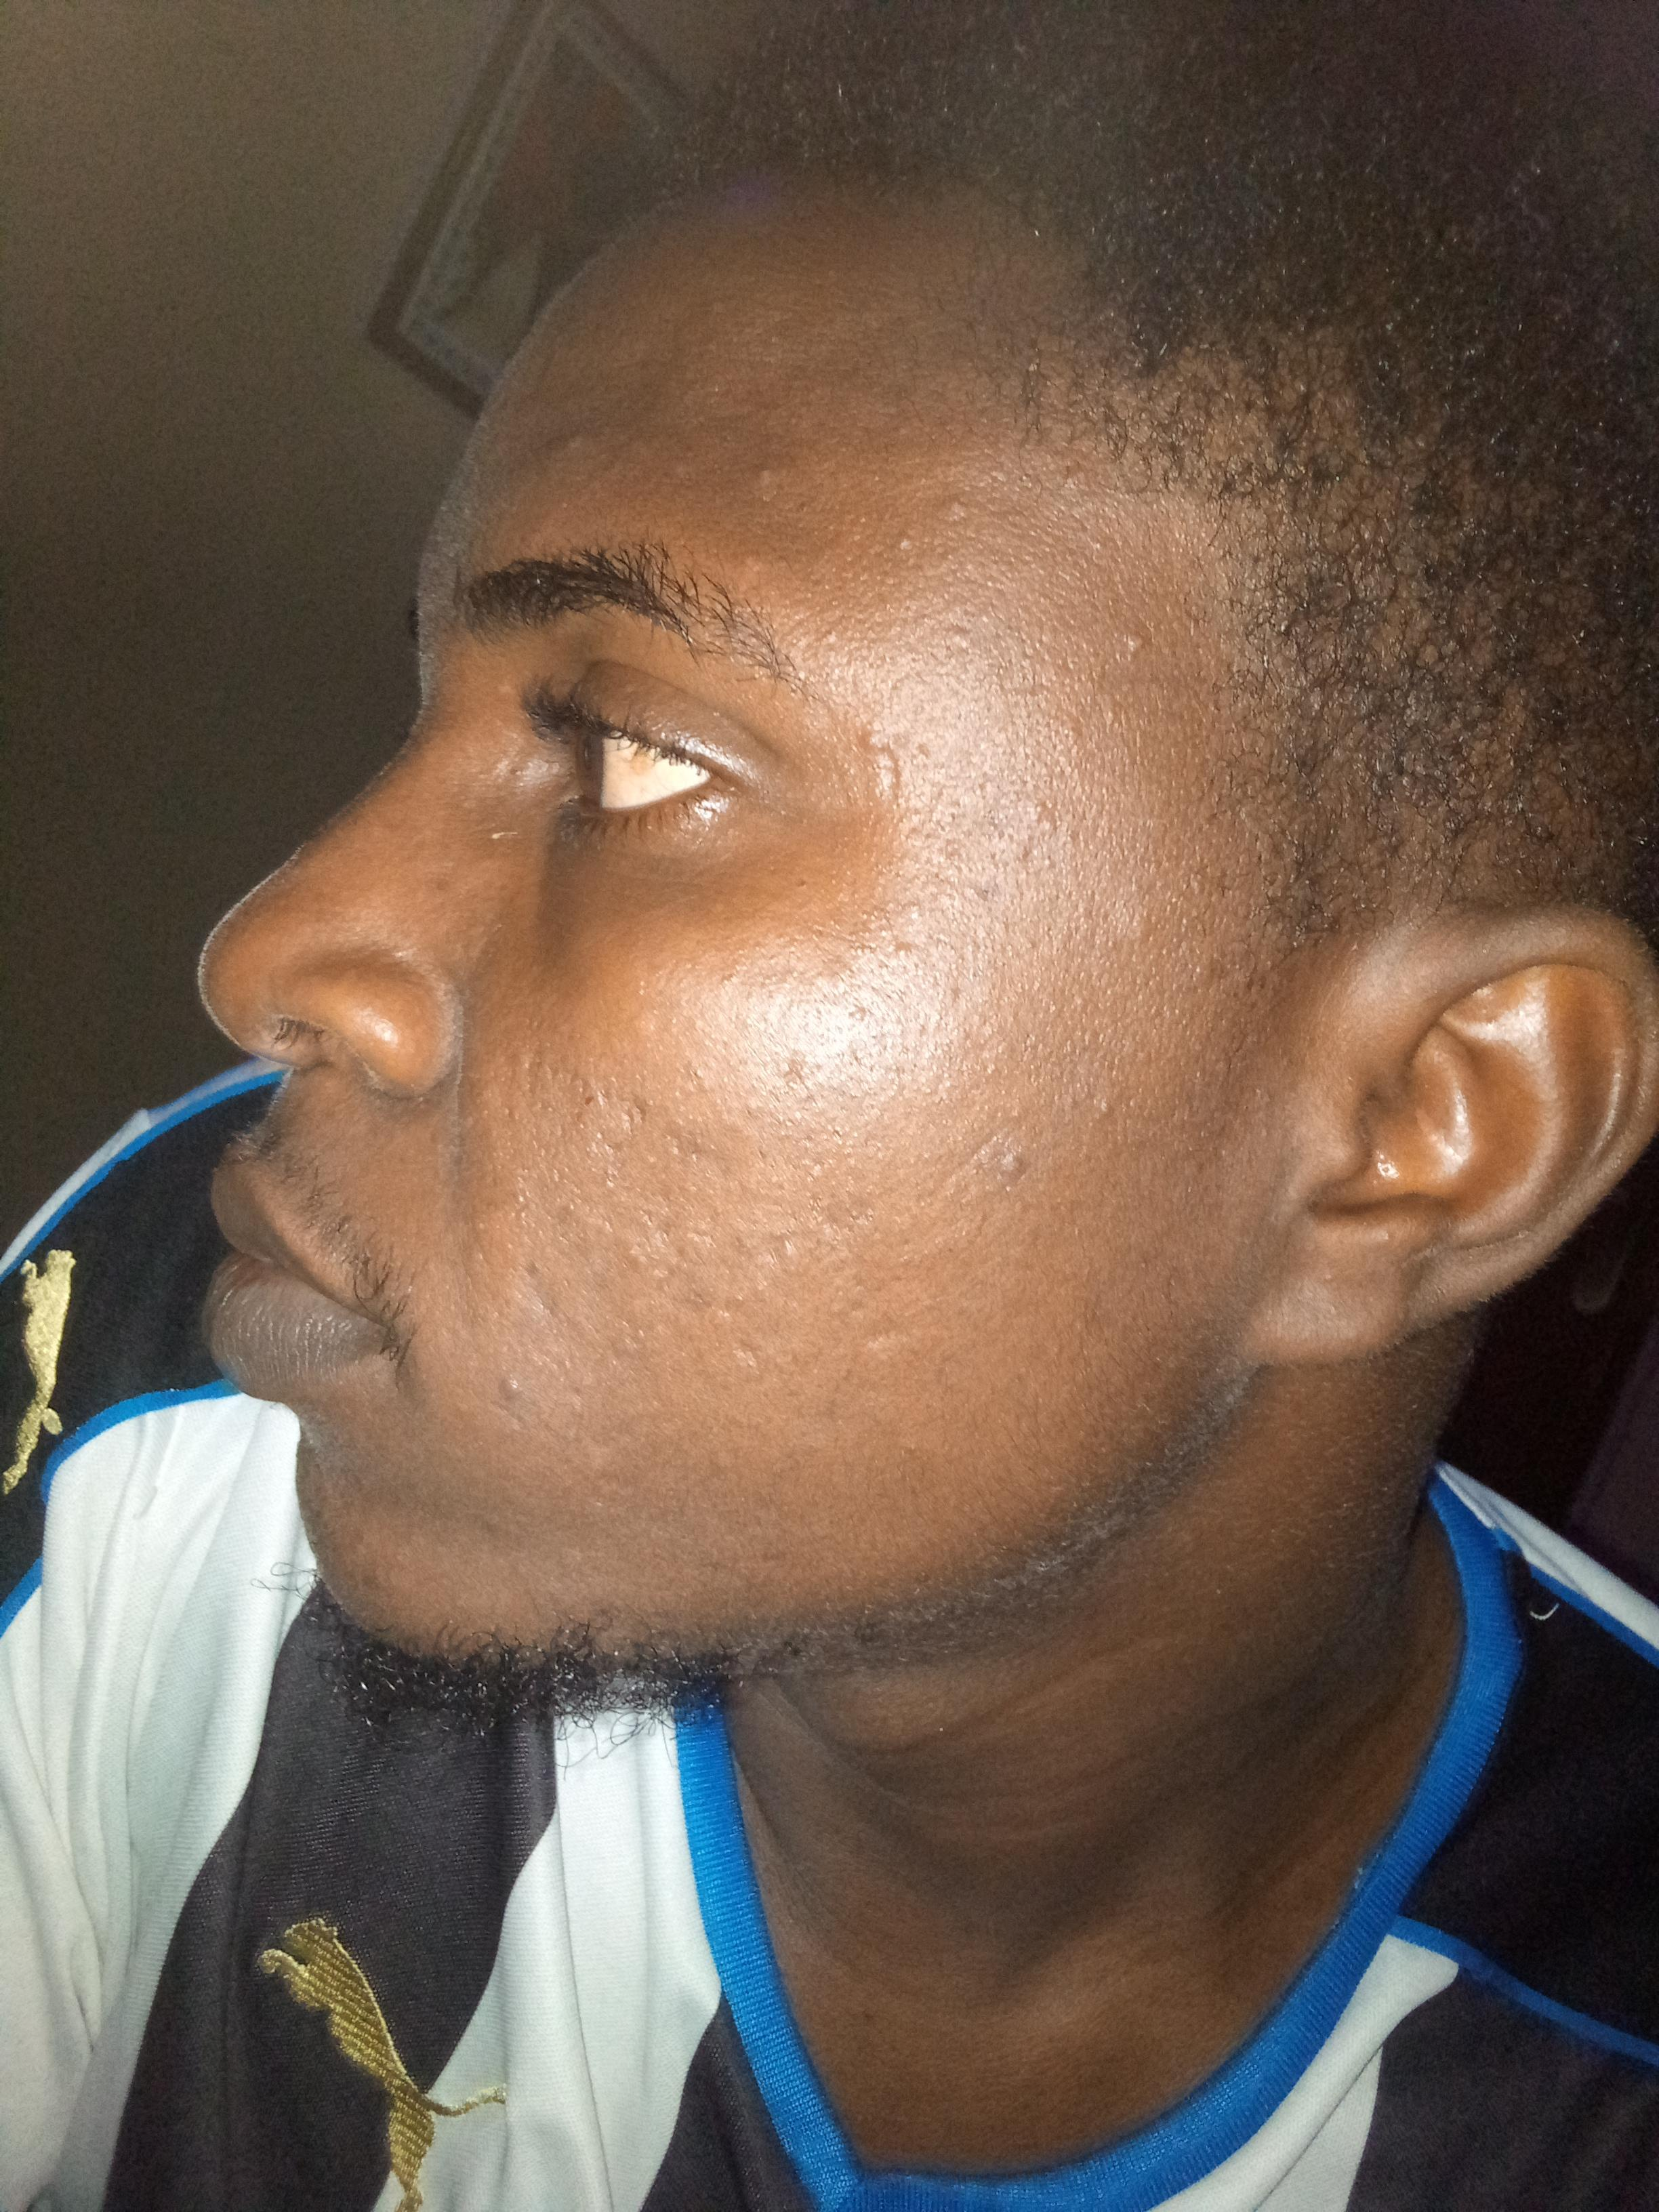Acne: (742, 462, 805, 526), (992, 1130, 1049, 1191), (1077, 1089, 1140, 1137), (873, 528, 920, 573), (1115, 624, 1159, 667), (498, 1366, 535, 1404), (836, 1000, 873, 1038), (941, 498, 981, 533), (667, 455, 701, 491), (559, 430, 589, 467), (885, 934, 918, 963)
Englarged-Pores: (481, 1055, 669, 1306)
